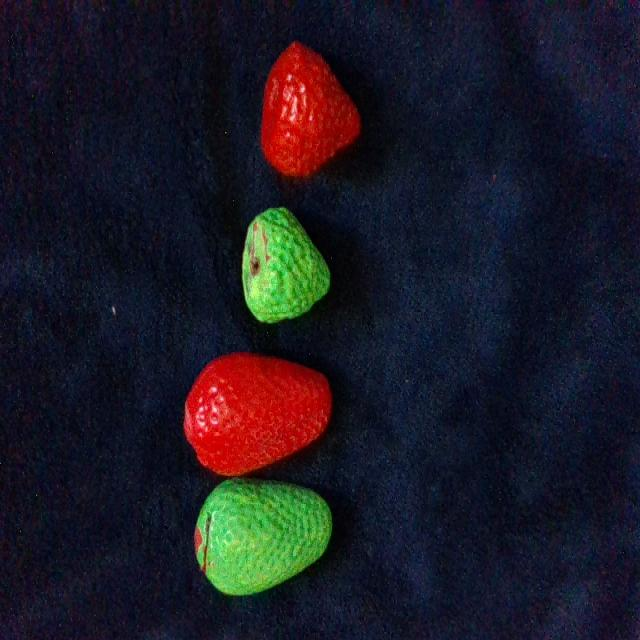chica_roja: (261, 43, 360, 175)
grande_roja: (185, 353, 331, 475)
verde: (195, 479, 331, 593), (243, 207, 329, 321)
